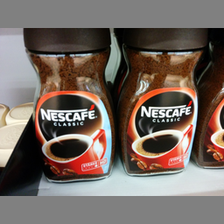coffee: (23, 28, 115, 183), (115, 28, 209, 174)
